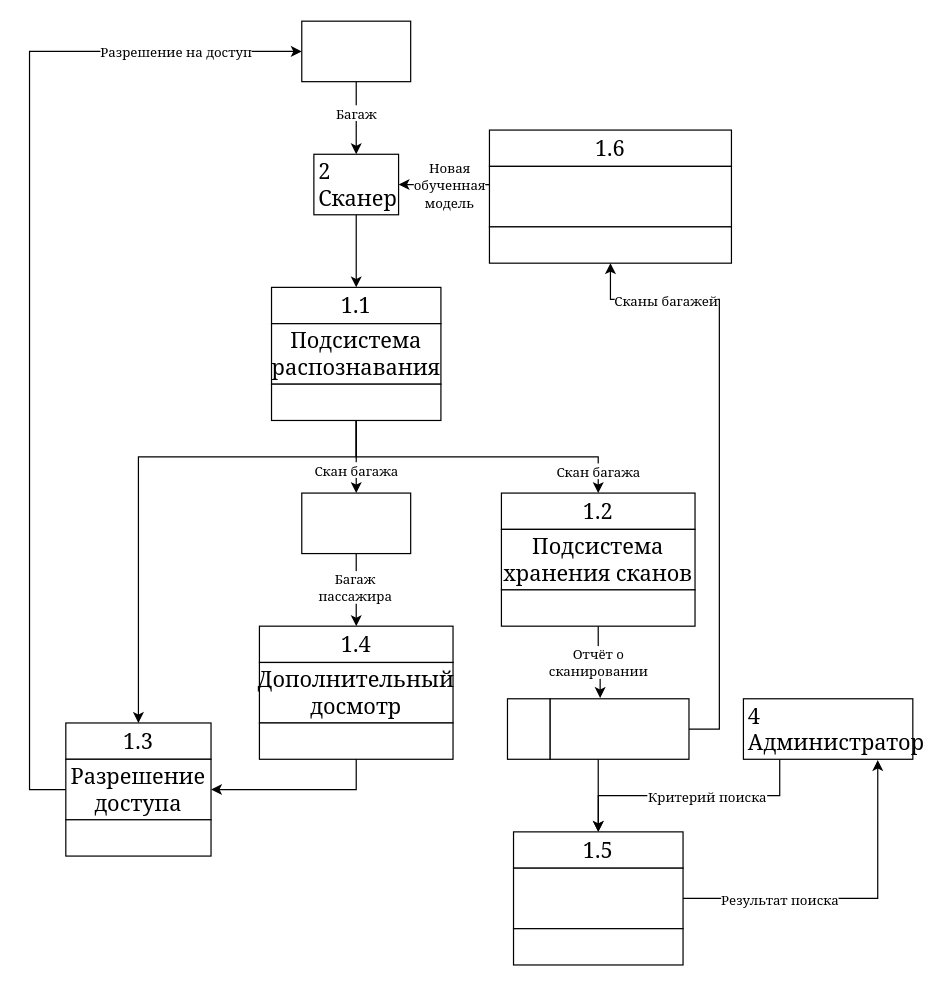
The diagram is 946 pixels wide and 986 high, and some of its shapes have lost their labels. Here are the shapes that lost their labels. From the top down, the centre of each, then its label:
At (356,51): "1 Пассажир".
At (609,196): "Подсистема обучения нейронной сети".
At (356,523): "3 Оператор".
At (528,728): "D1".
At (619,728): "База данных сканов".
At (597,898): "Поиск отчёта о сканировании".
